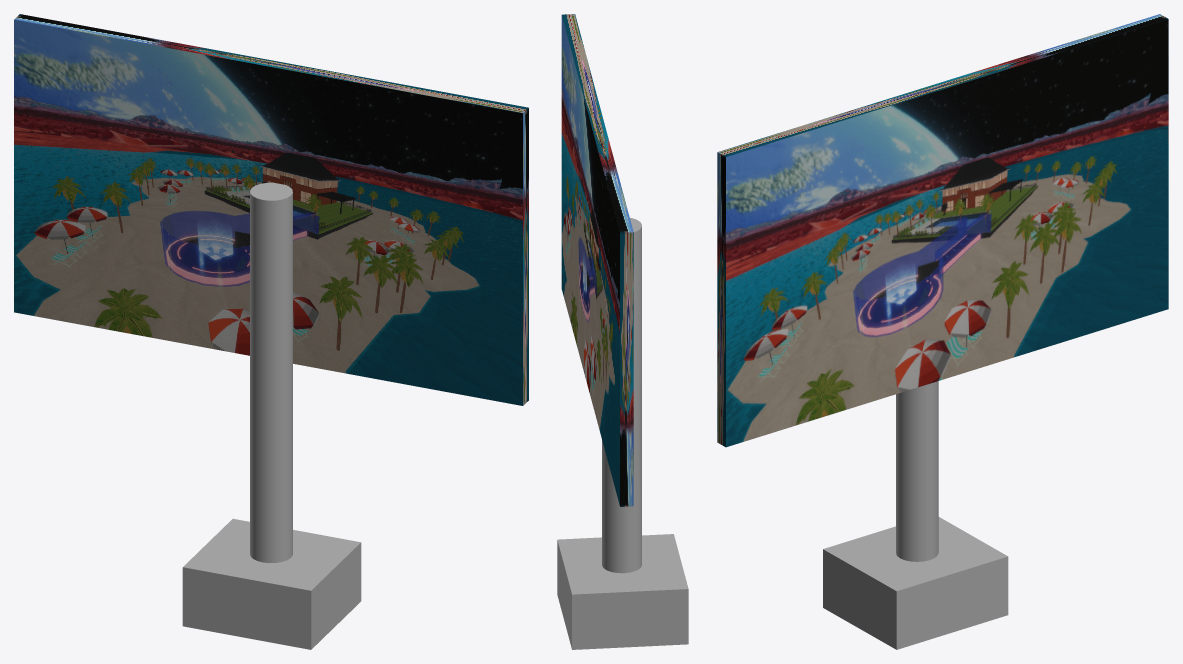
File: MeshBaker (0)-mesh-mesh.fbx
3 views of the same model, side by side, from view 1: azimuth 30°, elevation 25°; view 2: azimuth 150°, elevation 25°; view 3: azimuth 270°, elevation 25° (orthographic). The views are drawn at different scales.
Parts seen in each view (by area): view 1: MeshBaker__0__mesh_mesh; view 2: MeshBaker__0__mesh_mesh; view 3: MeshBaker__0__mesh_mesh.
Part boxes in pixels (bbox=[...]): MeshBaker__0__mesh_mesh: bbox=[14, 14, 528, 649]; MeshBaker__0__mesh_mesh: bbox=[557, 14, 688, 649]; MeshBaker__0__mesh_mesh: bbox=[717, 14, 1168, 649].
Size of the model in its own units: 145 by 251 by 193.
2 materials, 1 textured.
